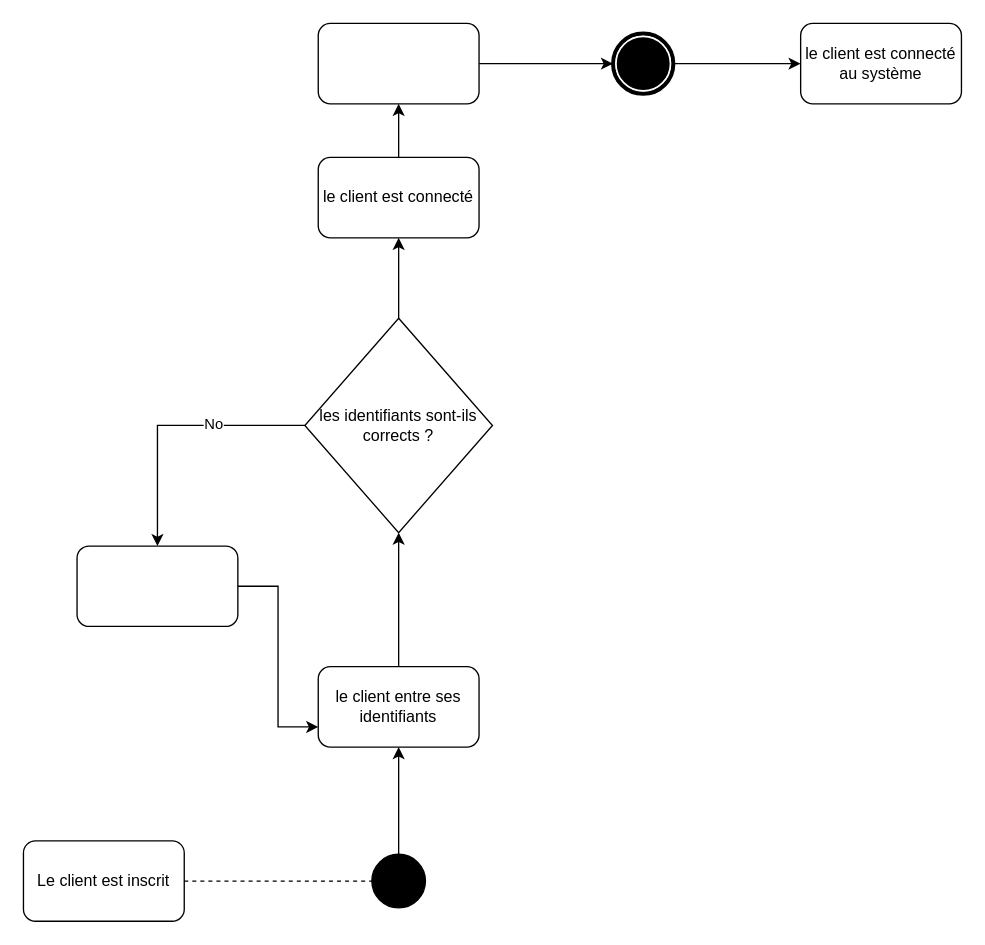
This 985x945 diagram has some shape labels left out. The shapes that lost their labels are listed below. From the top down, each one's box as (x1, y1, x2, y2) in pixels, then its label:
(317, 22, 479, 104): Les paramètres du client sont affichés
(76, 545, 238, 626): login ou pass incorrect
